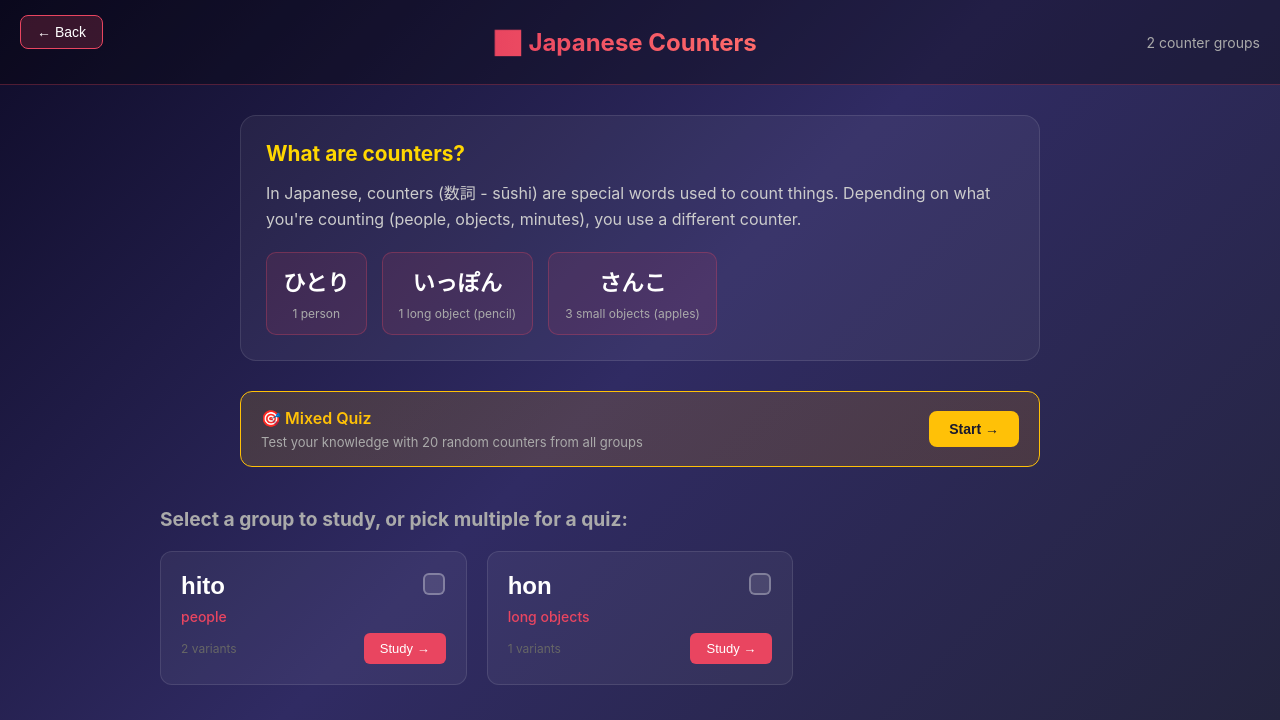
Test: CountersMode › should enter quiz mode from study mode
Click the heading "hito": (203, 586) [181, 572, 225, 600]
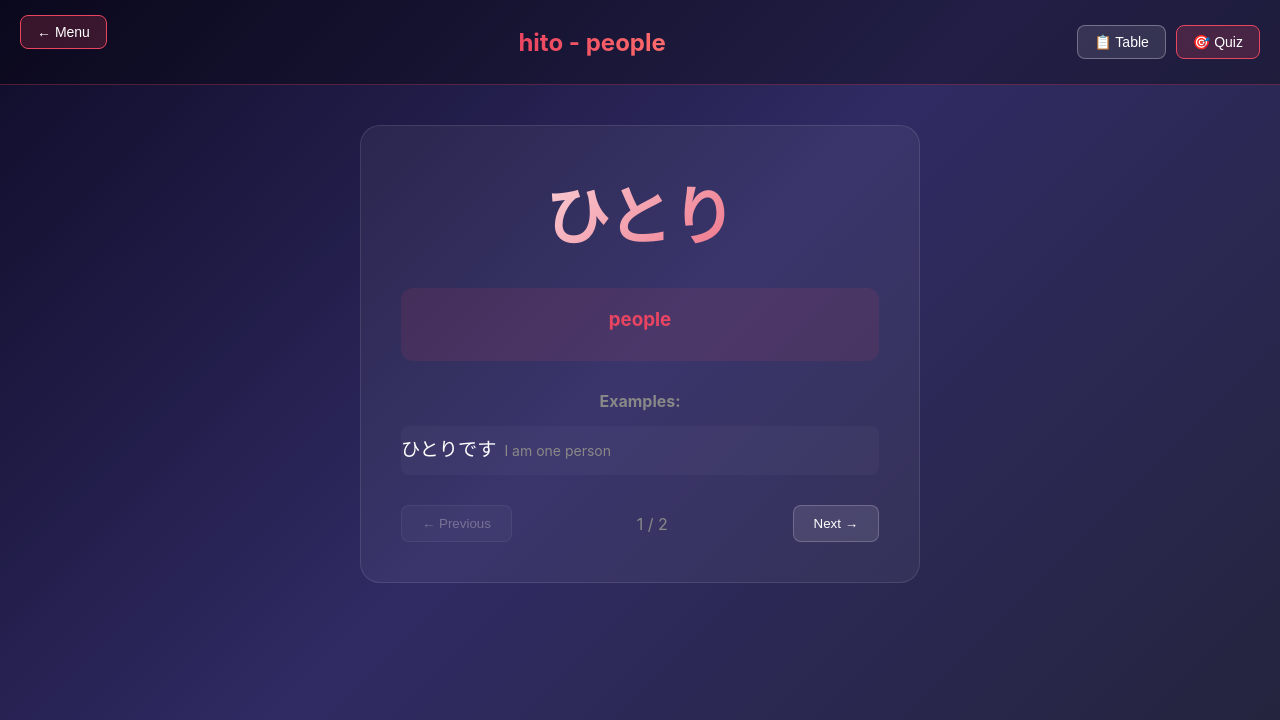
Now the button "🎯 Quiz" is shown
Click the button "🎯 Quiz": (1218, 42) [1176, 25, 1260, 59]
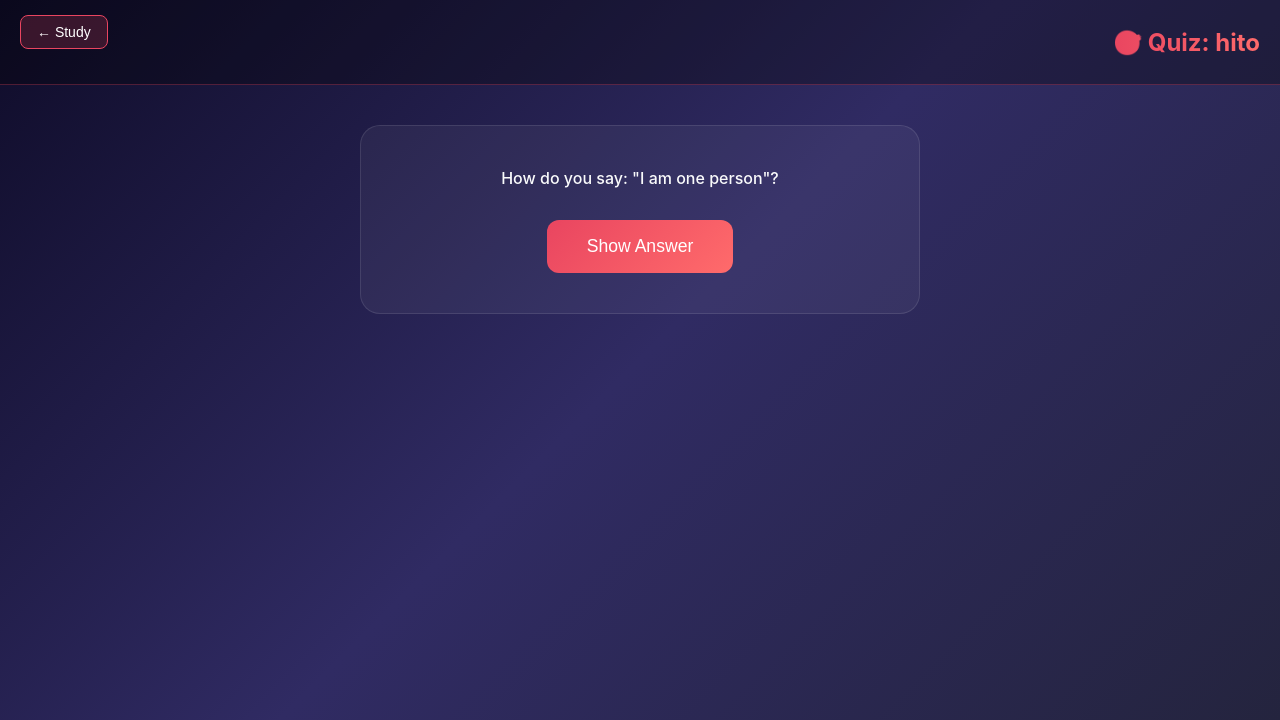
Now the heading "🎯 Quiz: hito" is shown, box [1112, 28, 1260, 56]
Now the button "Show Answer" is shown, box [547, 220, 733, 273]
